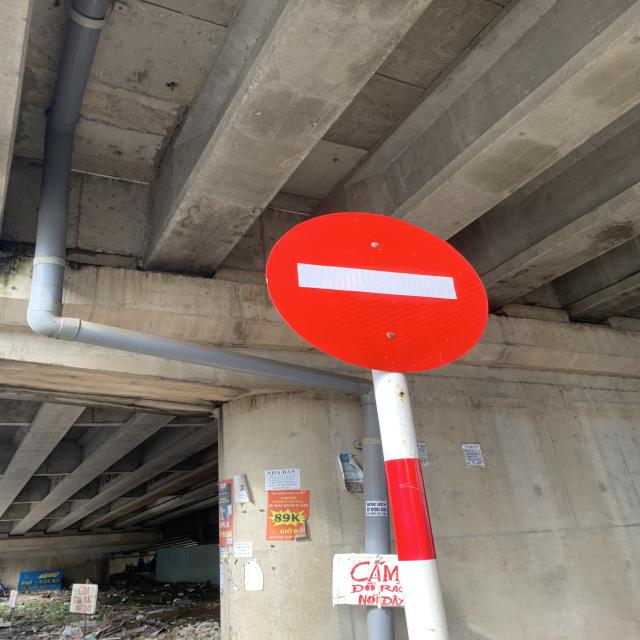Cam_Di_Nguoc_Chieu: (267, 211, 494, 378)
